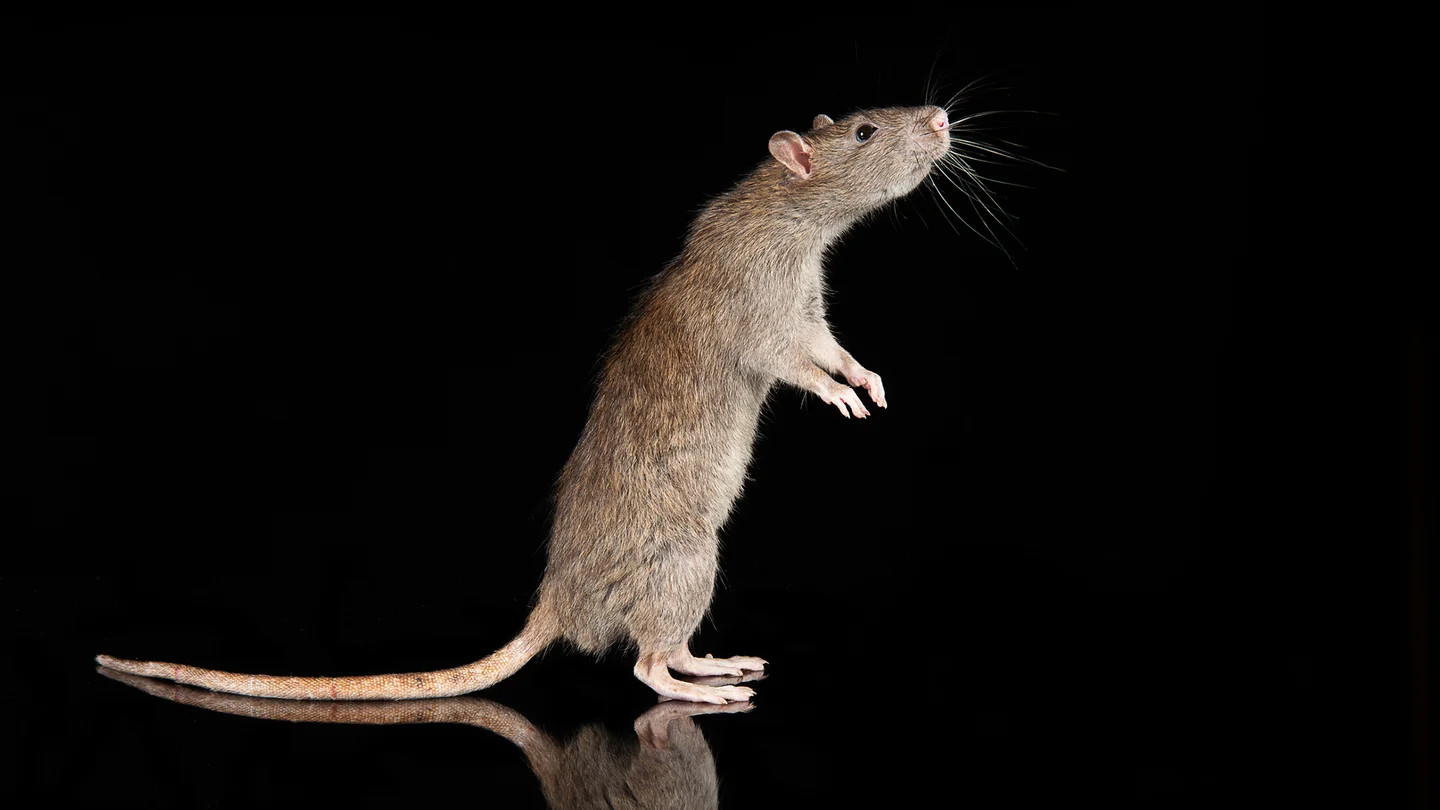rat: (94, 78, 1028, 707)
